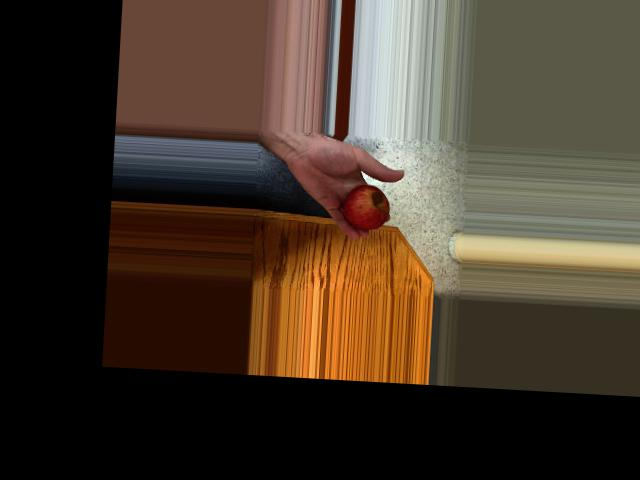apple: (335, 178, 392, 230)
